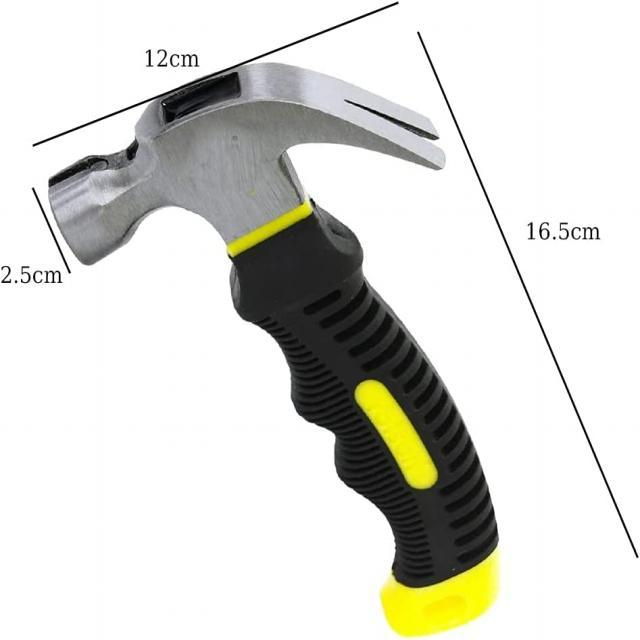hammer: (41, 54, 507, 640)
